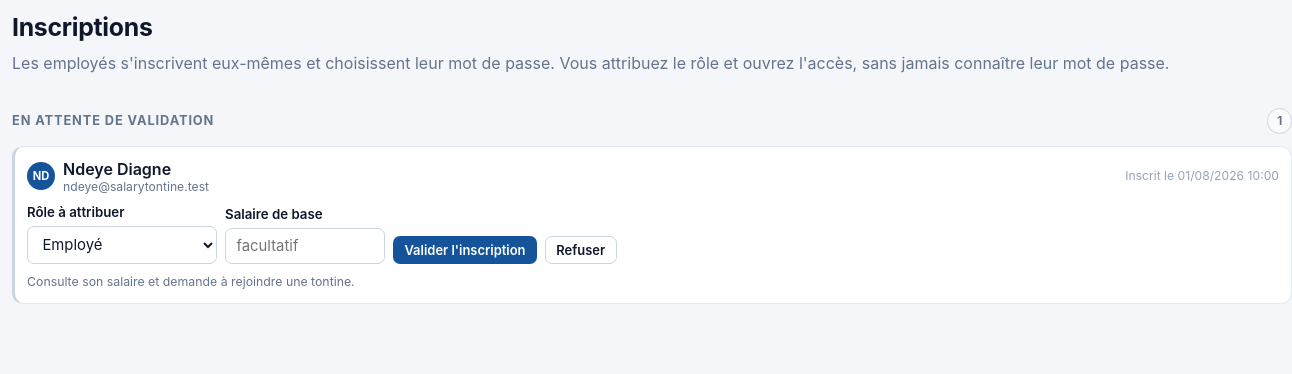
RegistrationsPage › valide une inscription avec le rôle choisi
Expected: the text "Ndeye Diagne" is shown, [63,159,171,179]
Select "Comptable" in the dropdown labelled "Rôle à attribuer" at coordinates (122, 245), box [27,226,217,264]
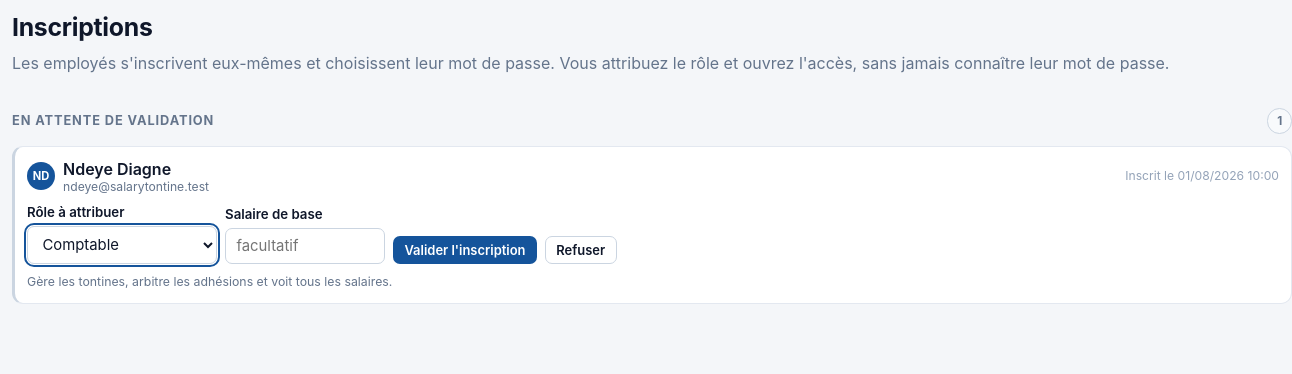
Type "480000" into the number field labelled "Salaire de base".
click(305, 246); type("480000")  # box [225,228,385,264]
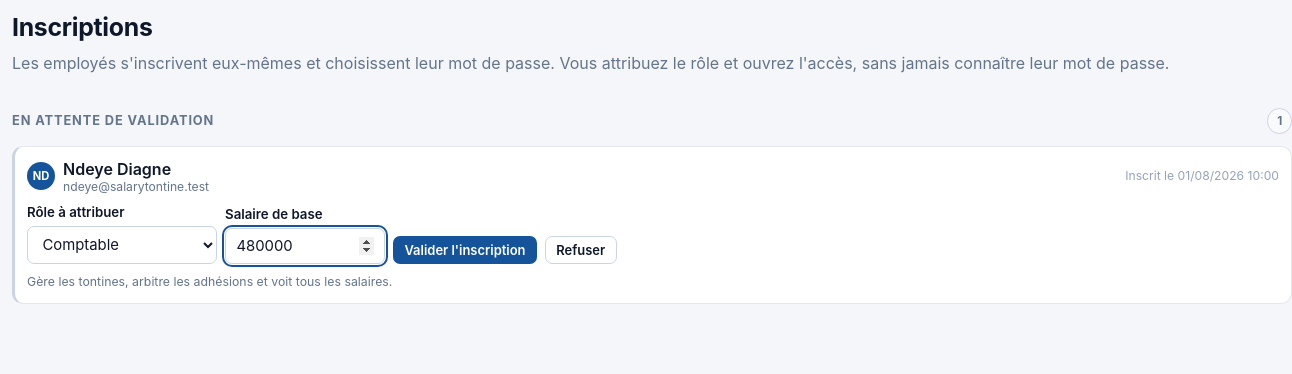
Click the button "Valider l'inscription".
click(465, 250)  # box [393,236,537,264]
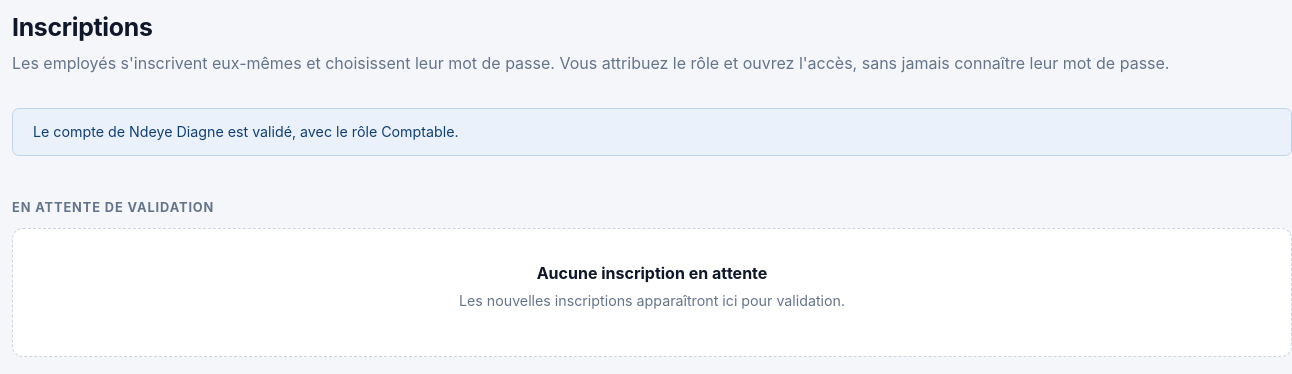
Result: the text "Le compte de Ndeye Diagne est validé, avec le rôle Comptable." is shown at [12,108,1291,156]
